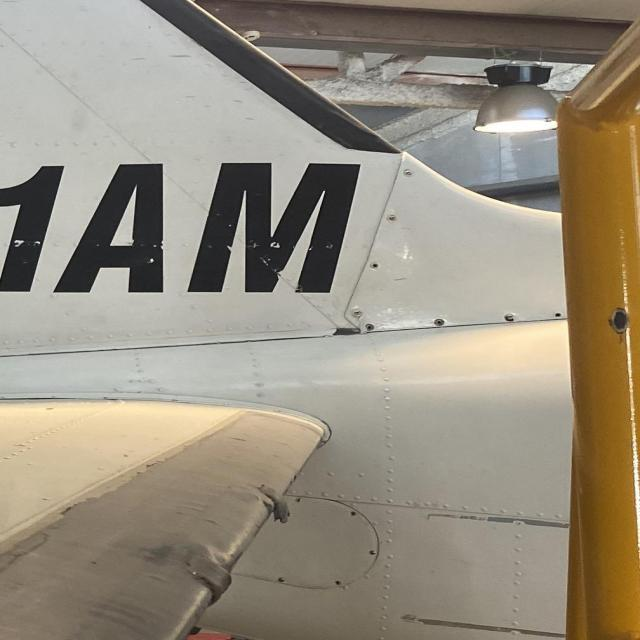Missing-head: (368, 260, 383, 272), (363, 323, 377, 332), (434, 318, 447, 326)
